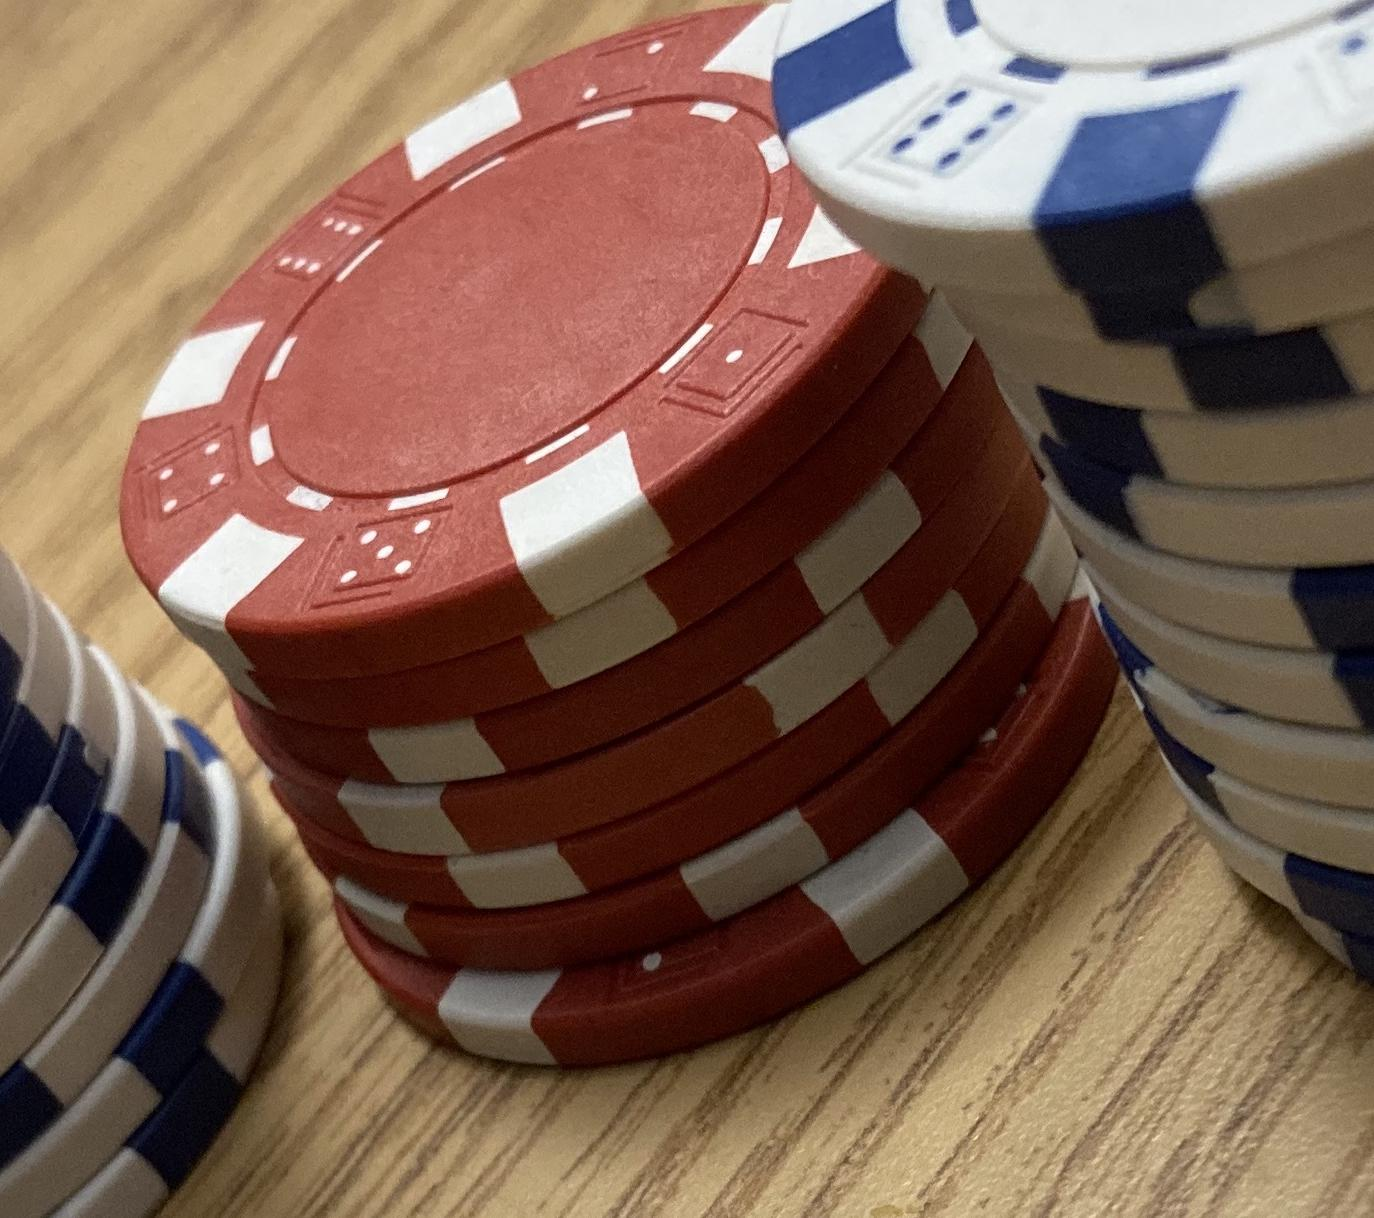Chip: (1, 1, 1374, 1218)
